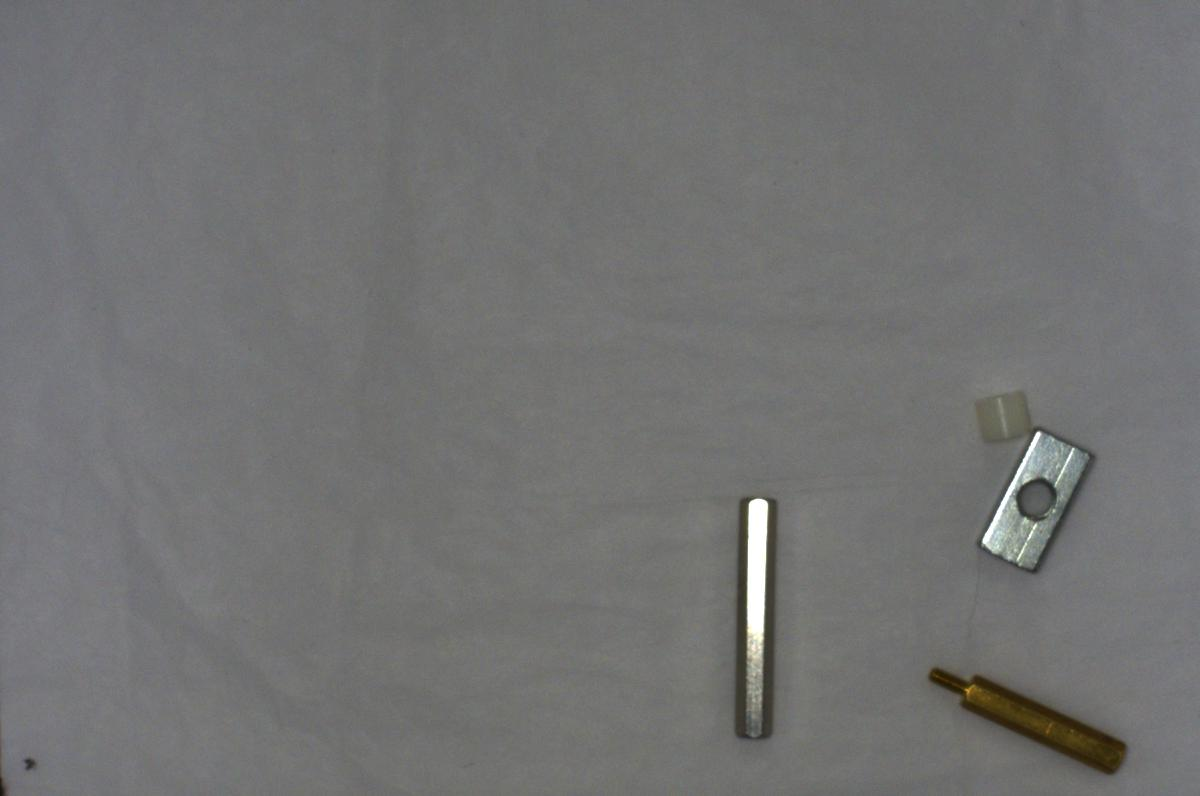Double hexagonal column: (720, 487, 792, 747)
Hexagon pillar: (919, 653, 1134, 779)
Plastic cushion pillar: (973, 385, 1038, 441)
Rectangular nut: (967, 426, 1100, 579)
